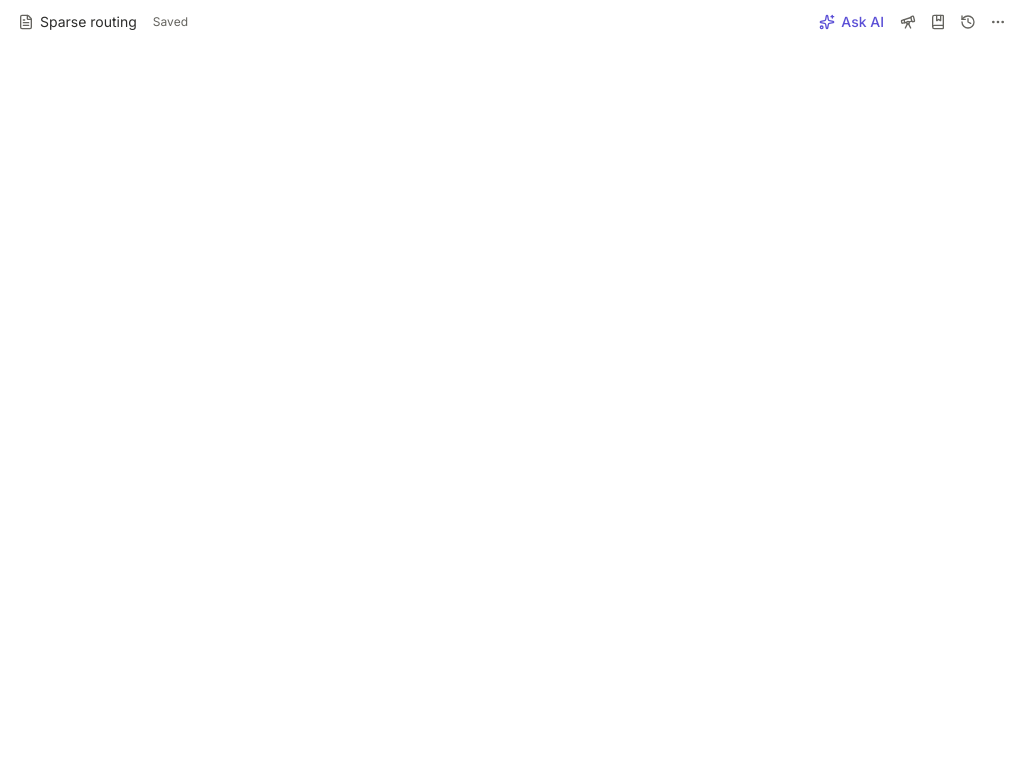
Test case: Page menu › holds the page actions, with word and character counts as its footer
The width and height of the screenshot is (1024, 768).
Step 1. Press the mouse on the button named "Page options" → {"x": 998, "y": 22}, box [984,8,1012,36]
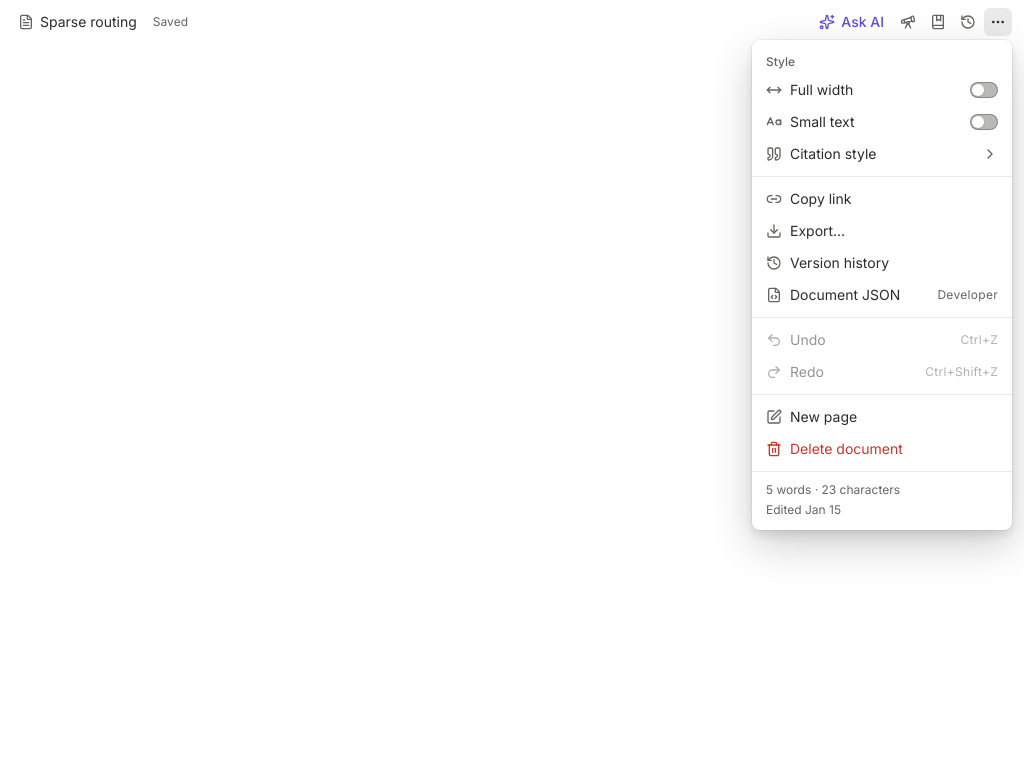
Expected: the menu item "Document JSON Developer" is shown, [766,286,998,303]
Expected: the menu item "Undo Ctrl+Z" is shown, [766,331,998,348]
Expected: the menu item "Full width" is shown, [766,81,998,98]
